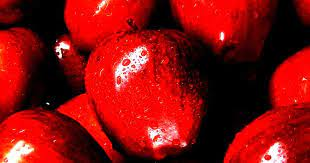apple: (1, 110, 110, 163)
